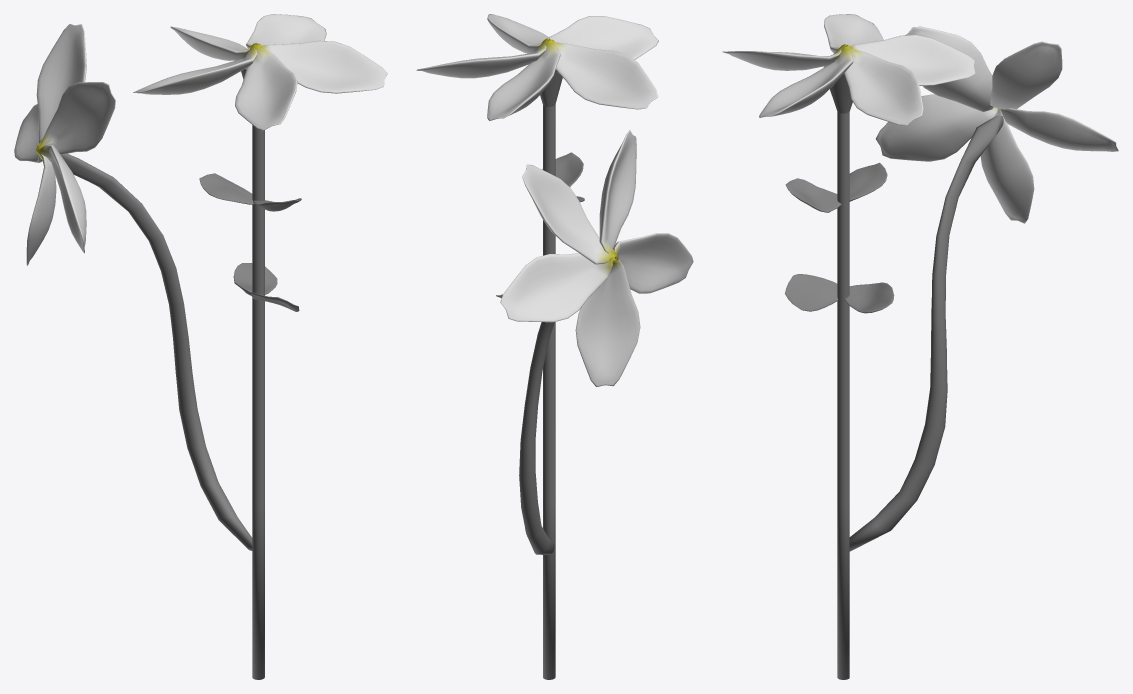
File: Kamini_Double_v1.fbx
3 renders of one model, left to right at view 1: azimuth 30°, elevation 25°; view 2: azimuth 150°, elevation 25°; view 3: azimuth 270°, elevation 25°, orthographic.
Visible parts, largest first — view 1: Kamini001, Kamini002, KaminiStem002, KaminiStem001, KaminiLeaves001-01, KaminiLeaves001-02; view 2: Kamini002, Kamini001, KaminiStem001, KaminiStem002, KaminiLeaves001-01; view 3: Kamini002, Kamini001, KaminiStem002, KaminiStem001, KaminiLeaves001-02, KaminiLeaves001-01.
Boxes of the visible parts, box(x1,y1,x2,y2) form: Kamini001: box(133, 14, 387, 130); Kamini002: box(14, 24, 115, 265); KaminiStem002: box(61, 153, 252, 550); KaminiStem001: box(241, 68, 264, 679); KaminiLeaves001-01: box(199, 173, 301, 211); KaminiLeaves001-02: box(233, 263, 299, 311); Kamini002: box(500, 130, 693, 386); Kamini001: box(416, 14, 658, 120); KaminiStem001: box(540, 70, 562, 679); KaminiStem002: box(519, 322, 554, 554); KaminiLeaves001-01: box(542, 152, 584, 202); Kamini002: box(875, 26, 1118, 223); Kamini001: box(722, 14, 975, 125); KaminiStem002: box(849, 115, 1003, 551); KaminiStem001: box(823, 66, 852, 679); KaminiLeaves001-02: box(785, 274, 894, 313); KaminiLeaves001-01: box(785, 162, 887, 212).
Bounding box in the file's own units: 4.57 × 10.69 × 6.08.
